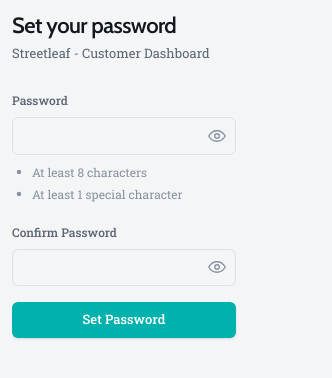
RegisterForm › shows 'Passwords match.' live once both fields are identical
The width and height of the screenshot is (332, 378).
Type "Pass.123" into the password field labelled "Password" at (124, 136), box [12,117,236,154]
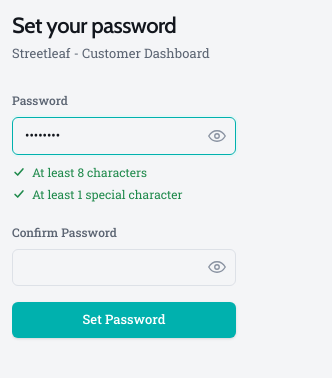
Type "Pass.123" into the password field labelled "Confirm Password" at (124, 267), box [12,248,236,286]
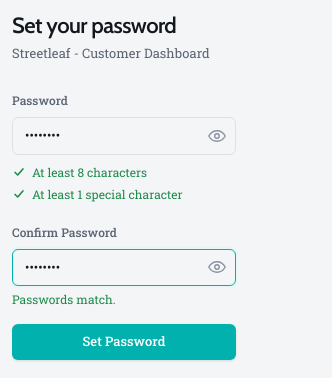
Result: the text "Passwords match." is shown at [12,291,116,307]
